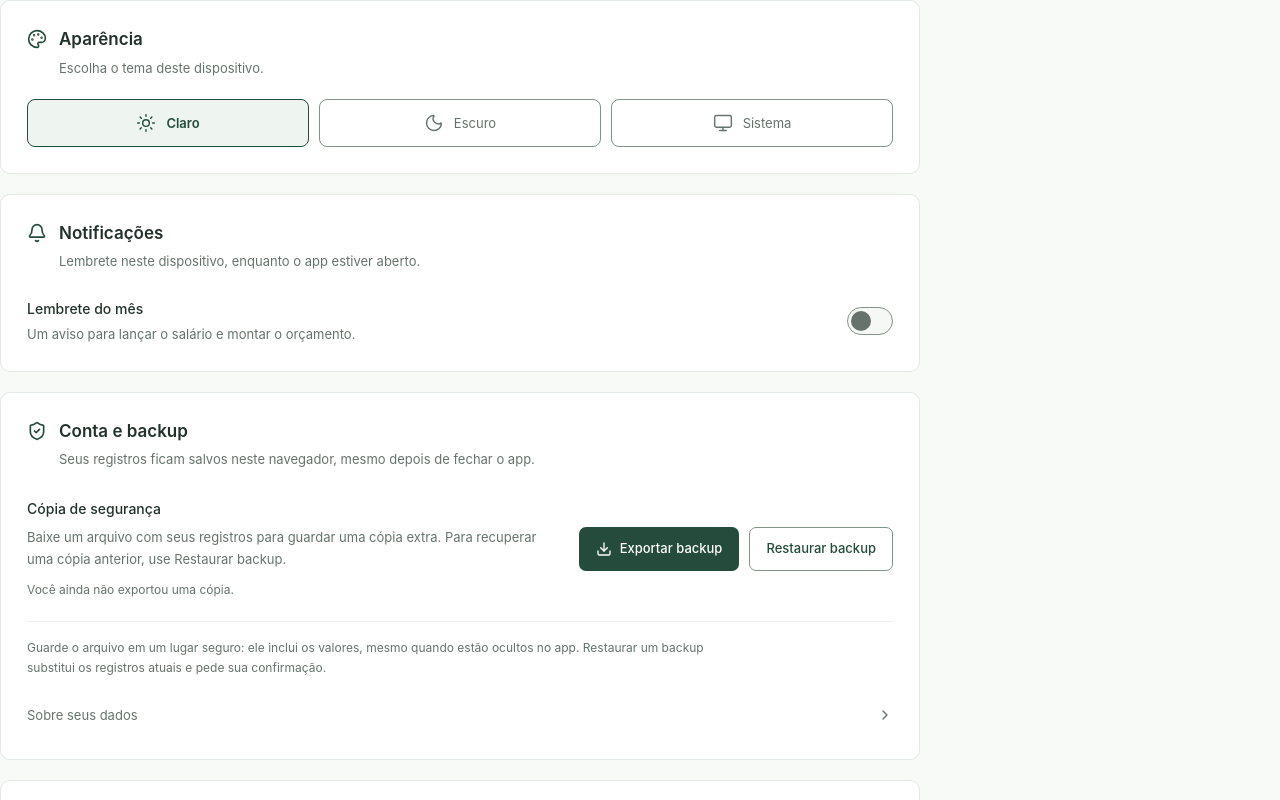
Test: cabeçalho e configurações › configura notificações no modo local com opções separadas e grade de dias
Click the switch named "Lembrete do mês".
click(870, 321)  # box [847,307,893,335]
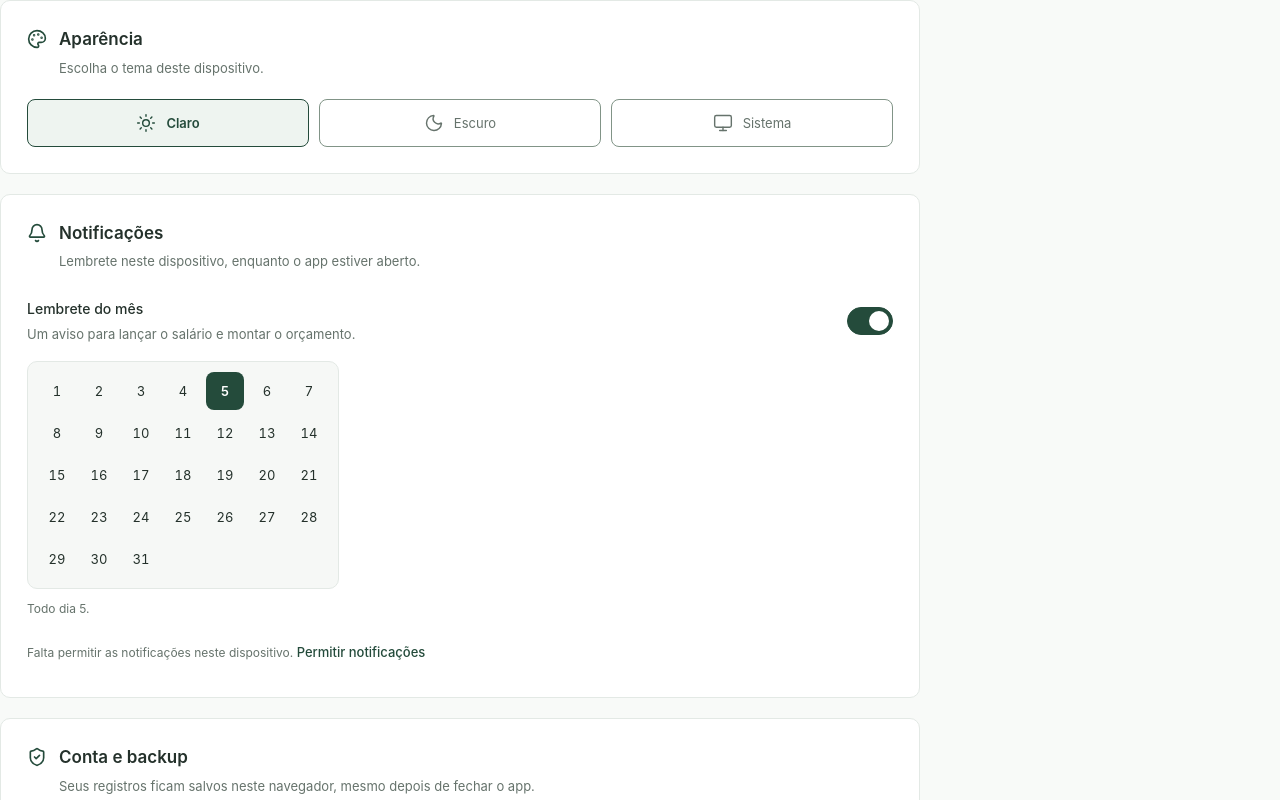
expect the switch named "Lembrete do mês" is checked: met, box [847,307,893,335]
Click the button named "Dia 31".
click(141, 559)  # box [122,540,160,578]
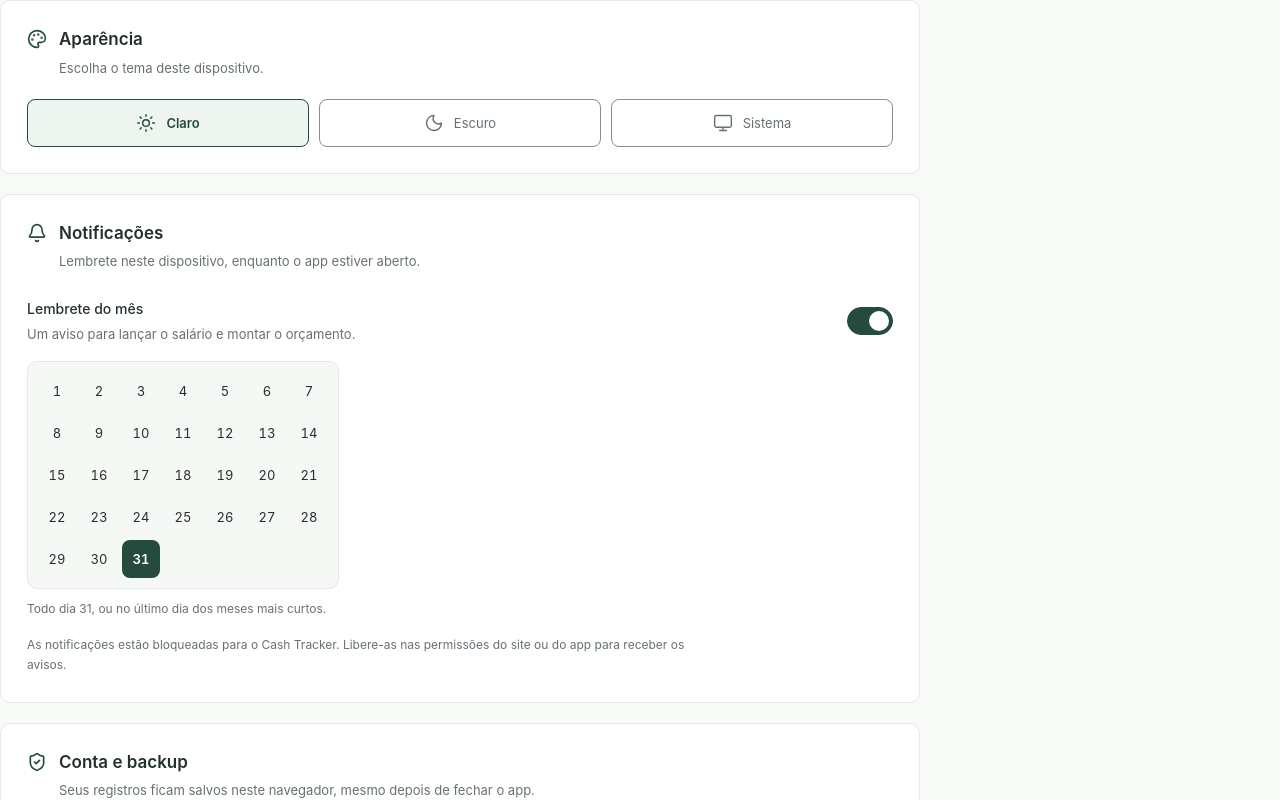
expect the text "Todo dia 31, ou no último dia dos meses mais curtos." is shown: met, box [27,601,326,616]
expect the text "notificações estão bloqueadas" is shown: met, box [27,637,684,672]
